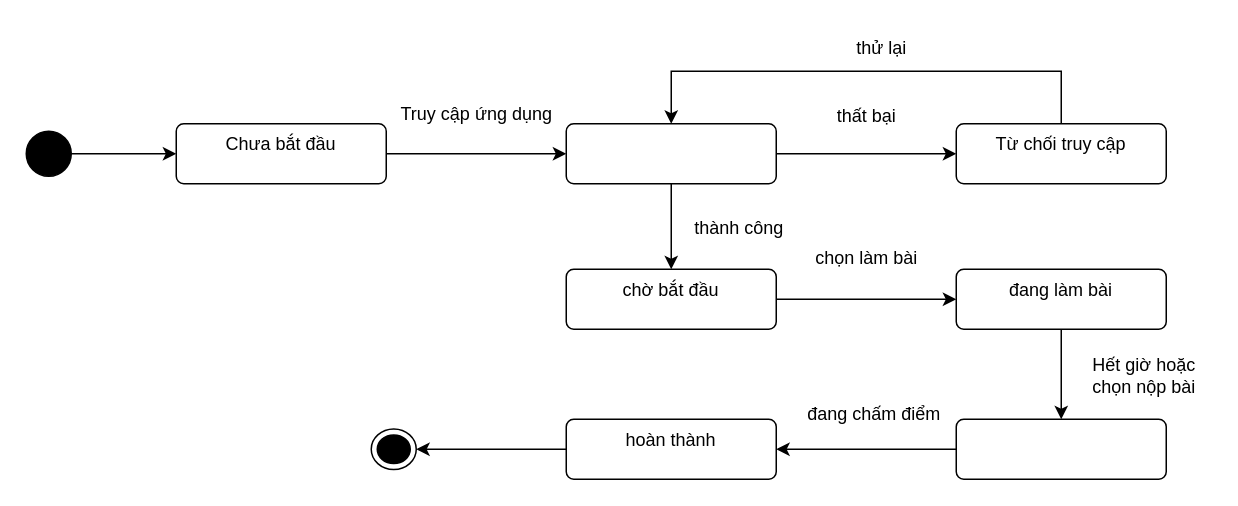
This 1238x506 diagram has some shape labels left out. The shapes that lost their labels are listed below. From the top down, each one's centre as x and y in pixels, then its label:
At [670,153]: "Chờ xác thực".
At [1060,448]: "đã nộp bài".
